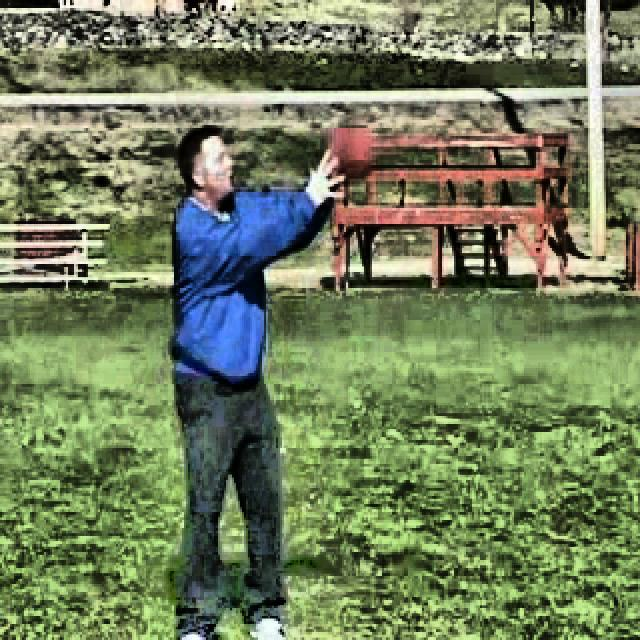I: (137, 77, 347, 638)
